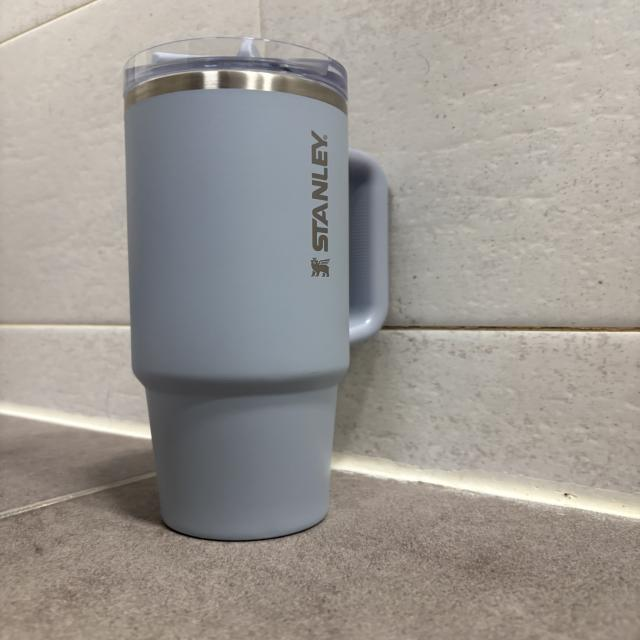waterbottle: (123, 36, 390, 542)
